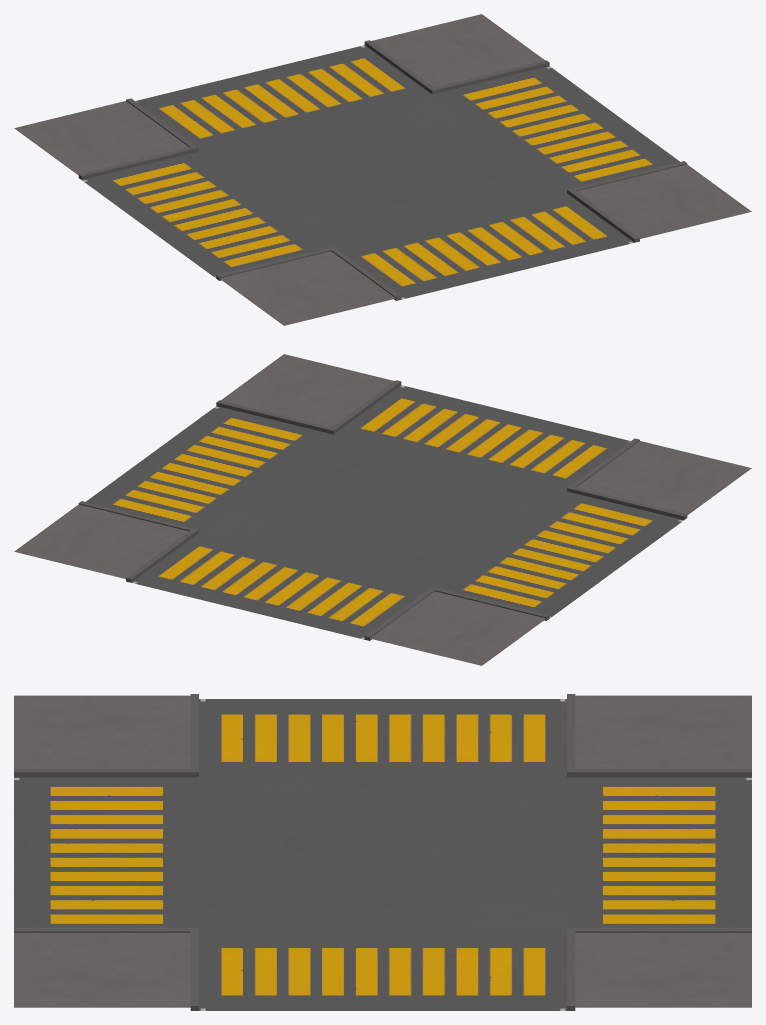
Rendered from SM_Floor_Road_03.fbx.
3 renders of one model, top to bottom at view 1: azimuth 30°, elevation 25°; view 2: azimuth 150°, elevation 25°; view 3: azimuth 270°, elevation 25°, orthographic. The views are drawn at different scales.
Parts seen in each view (by area): view 1: SM_Floor_Road_03; view 2: SM_Floor_Road_03; view 3: SM_Floor_Road_03.
Part boxes in pixels (x1,y1,x2,y2): SM_Floor_Road_03: [14, 14, 751, 325]; SM_Floor_Road_03: [14, 354, 751, 665]; SM_Floor_Road_03: [14, 694, 751, 1010].
Bounding box in the file's own units: 10 × 0.075 × 10.
